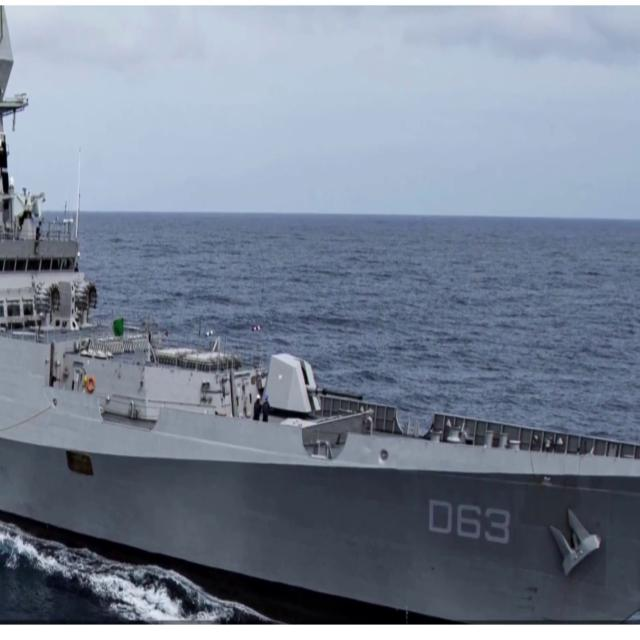OCR: (427, 494, 514, 551)
